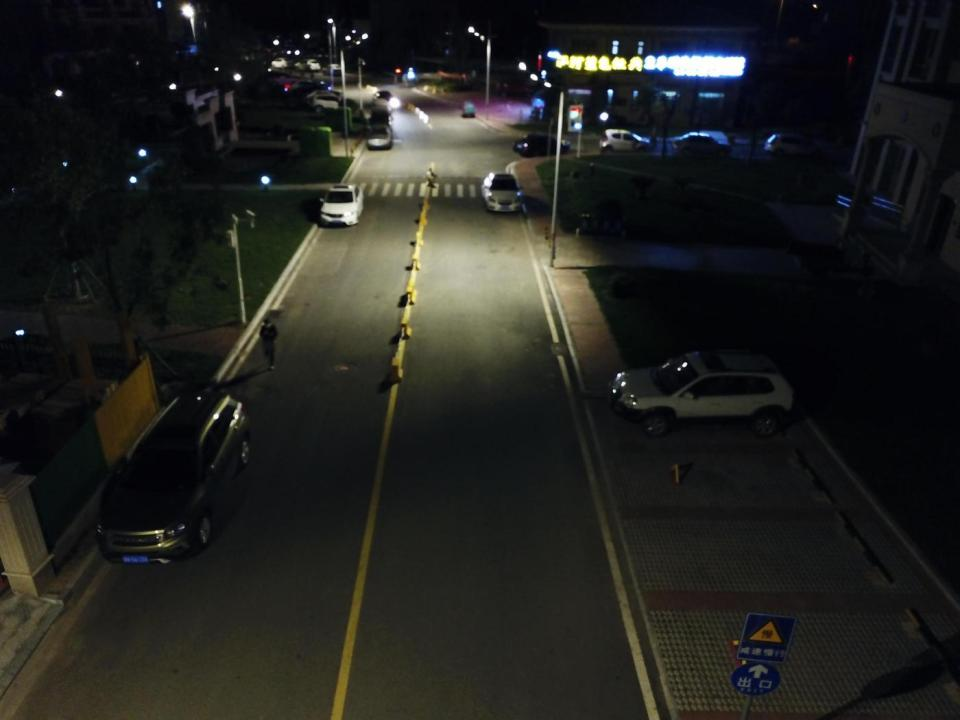car: (95, 390, 252, 566), (611, 347, 795, 439), (318, 184, 364, 226), (480, 172, 522, 212), (763, 132, 824, 158), (512, 134, 570, 158), (673, 132, 732, 155), (600, 128, 652, 154), (308, 94, 348, 112), (366, 122, 392, 149), (306, 89, 345, 103), (370, 106, 392, 130), (372, 90, 399, 109), (283, 79, 322, 92), (294, 58, 321, 72), (271, 57, 294, 68), (322, 64, 345, 75)
